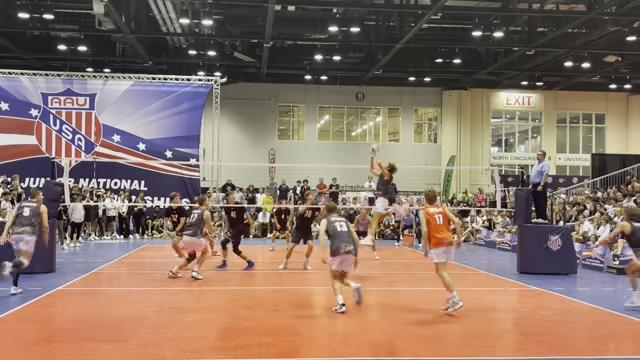Player: (419, 188, 462, 312), (0, 188, 48, 294), (319, 202, 361, 313), (594, 207, 639, 309), (168, 196, 214, 279), (279, 193, 319, 269), (217, 192, 255, 269), (164, 192, 188, 258), (269, 200, 290, 250)
Set: (362, 144, 398, 250)
ball: (368, 143, 380, 155)
